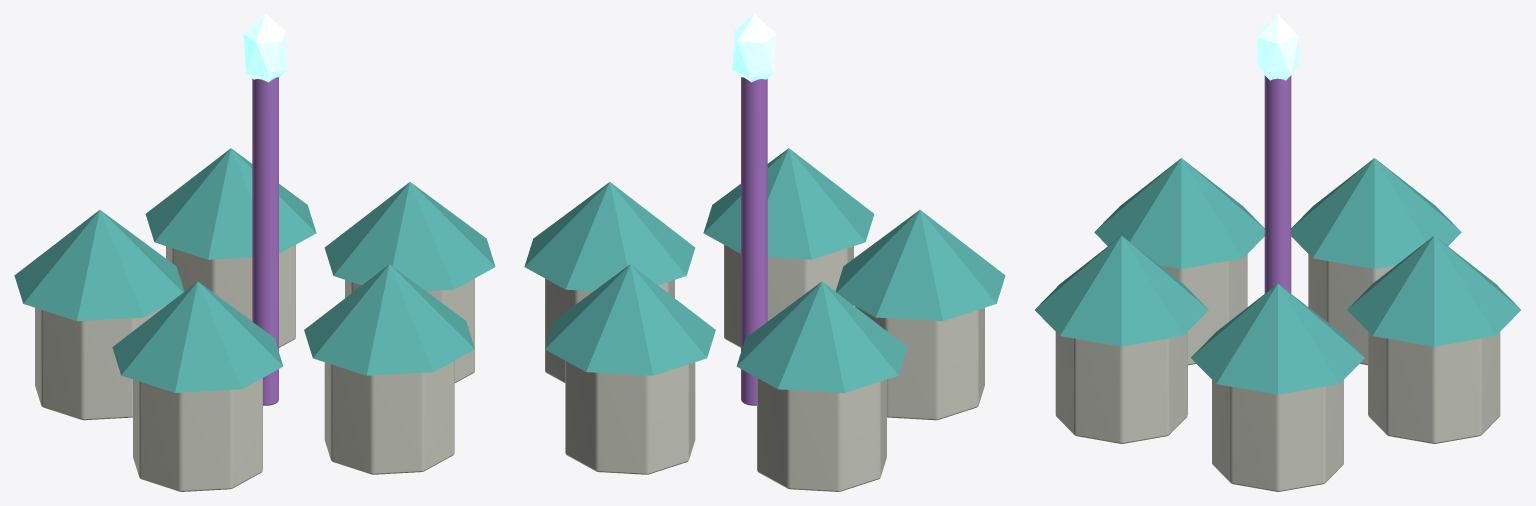
The model's file is civilization.glb.
3 views of the same model, side by side, from view 1: azimuth 30°, elevation 25°; view 2: azimuth 150°, elevation 25°; view 3: azimuth 270°, elevation 25° (orthographic).
Parts seen in each view (by area): view 1: Roof, Settlement hut, Signal spire, Settlement beacon; view 2: Roof, Settlement hut, Signal spire, Settlement beacon; view 3: Roof, Settlement hut, Signal spire, Settlement beacon.
Boxes of the visible parts, box(x1,y1,x2,y2) form: Roof: box(14, 148, 495, 392); Settlement hut: box(35, 245, 474, 491); Signal spire: box(252, 77, 278, 405); Settlement beacon: box(243, 14, 287, 82); Roof: box(524, 148, 1005, 392); Settlement hut: box(545, 245, 984, 491); Signal spire: box(741, 77, 767, 405); Settlement beacon: box(732, 14, 776, 82); Roof: box(1035, 158, 1520, 394); Settlement hut: box(1055, 254, 1500, 491); Signal spire: box(1264, 75, 1291, 293); Settlement beacon: box(1257, 14, 1298, 80).
Size of the model in its own units: 4.59 by 4.1 by 4.74.
